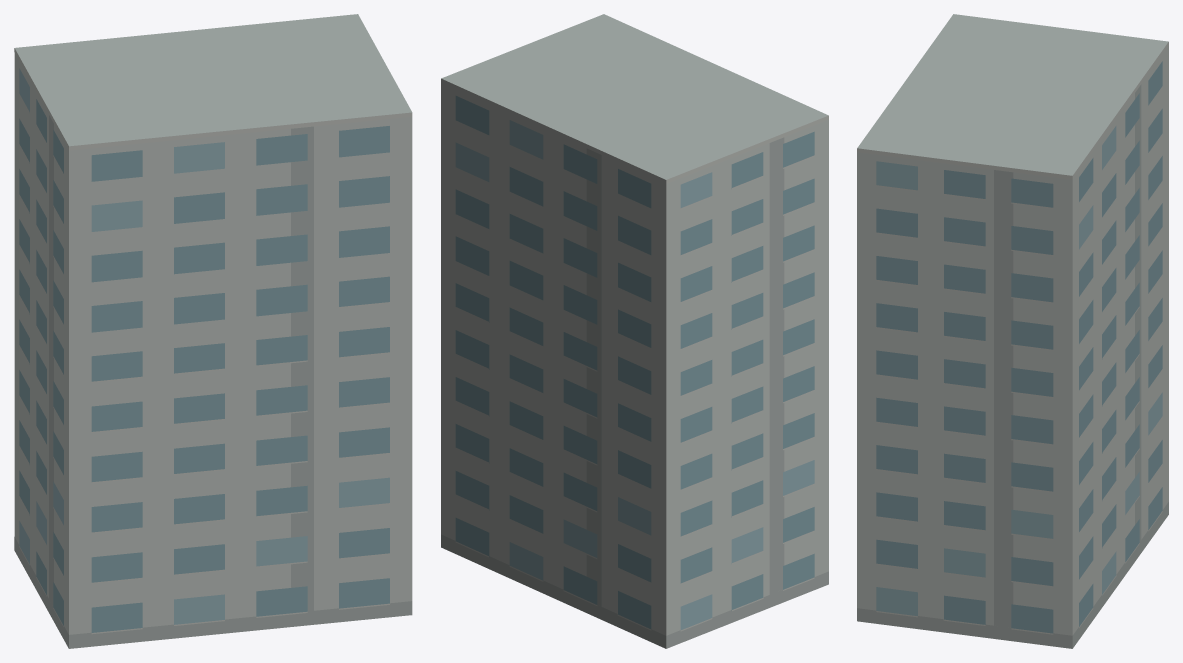
The model's file is residential-5c8595db-1113-4e31-997e-f75e591c55f2.glb.
The picture shows the model from 3 angles, left to right: view 1: azimuth 30°, elevation 25°; view 2: azimuth 150°, elevation 25°; view 3: azimuth 270°, elevation 25°; orthographic projection. The views are drawn at different scales.
Visible parts, largest first — view 1: residential-5c8595db-1113-4e31-997e-f75e591c55f2.tmp; view 2: residential-5c8595db-1113-4e31-997e-f75e591c55f2.tmp; view 3: residential-5c8595db-1113-4e31-997e-f75e591c55f2.tmp.
Part boxes in pixels (left/top/right/bottom): residential-5c8595db-1113-4e31-997e-f75e591c55f2.tmp: left=14, top=14, right=412, bottom=648; residential-5c8595db-1113-4e31-997e-f75e591c55f2.tmp: left=441, top=14, right=828, bottom=648; residential-5c8595db-1113-4e31-997e-f75e591c55f2.tmp: left=857, top=14, right=1168, bottom=648.
Bounding box in the file's own units: 20.55 × 28 × 16.73.
